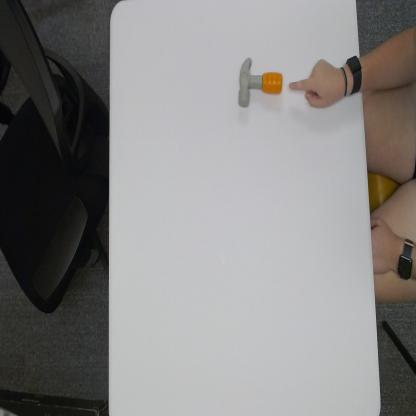Hammer: (238, 56, 283, 109)
Hand: (289, 56, 345, 112)
